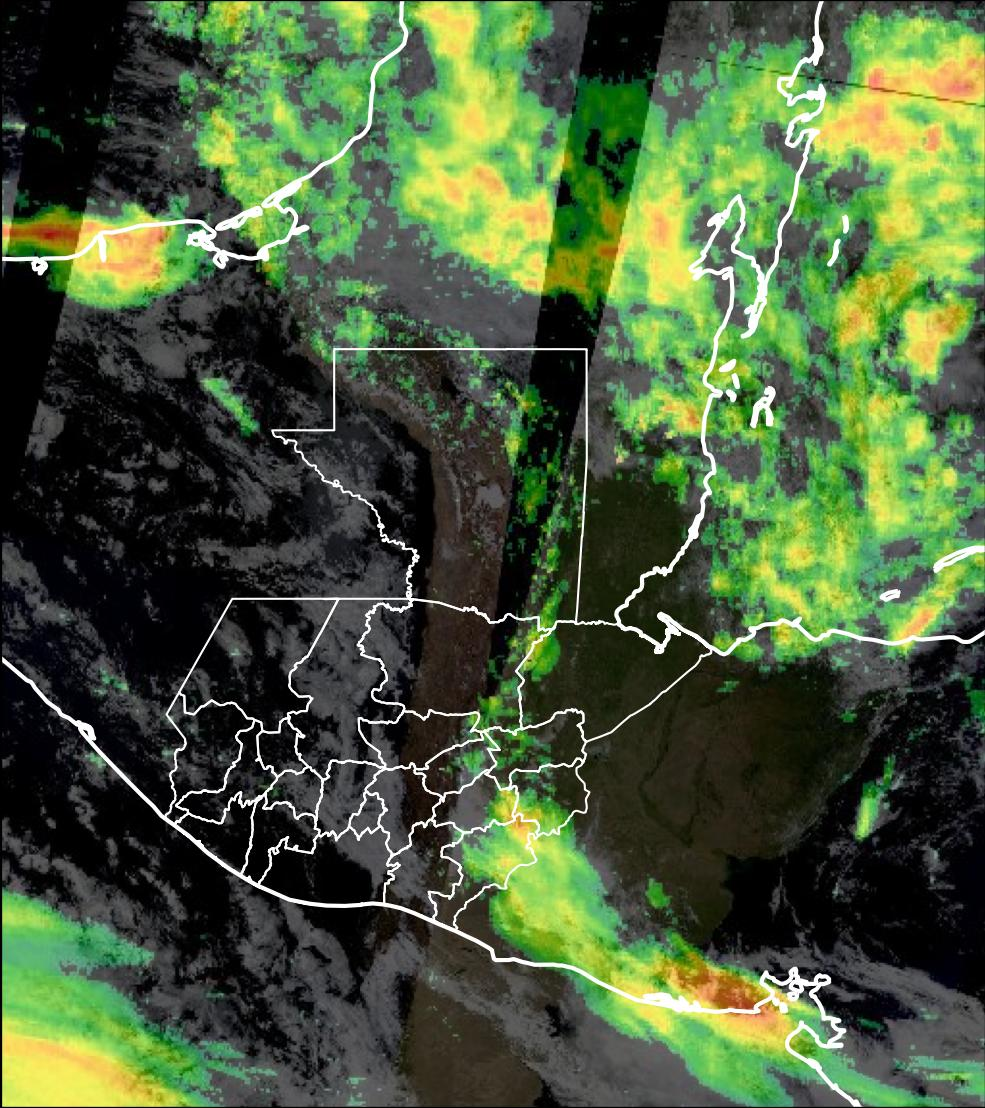precipitacion: (646, 950, 817, 1062), (860, 54, 984, 164), (1, 214, 167, 289)
